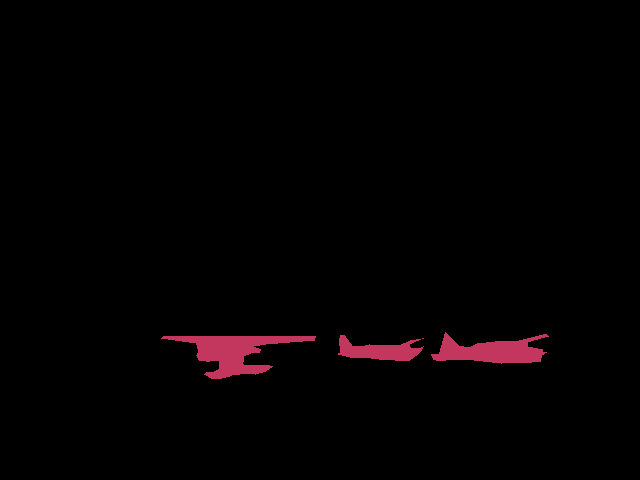Airplane: (161, 336, 315, 378), (431, 332, 549, 363), (338, 335, 424, 361)
